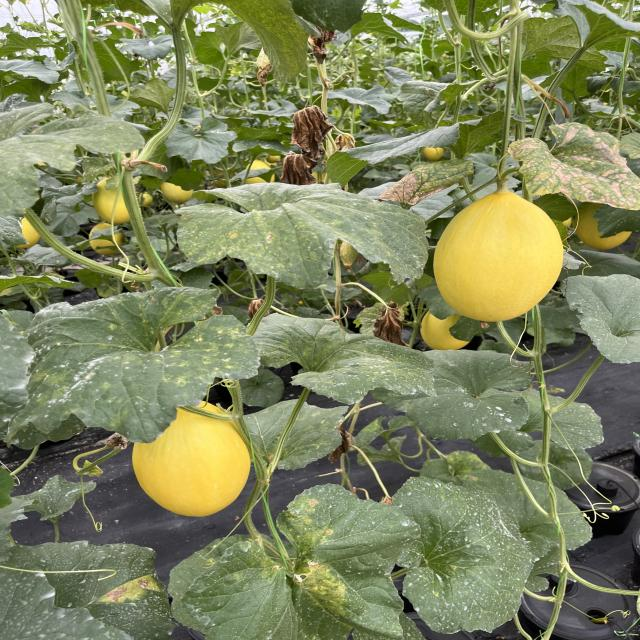CMV: (166, 179, 432, 285)
alternaria leaf blight: (177, 481, 407, 640), (0, 537, 171, 639), (508, 122, 640, 210), (382, 156, 478, 204)
bacterial wilt: (286, 99, 336, 158), (273, 149, 317, 183), (376, 300, 411, 339)
downy mildew: (0, 274, 273, 445), (394, 472, 537, 634), (249, 314, 439, 405), (557, 273, 640, 367)
